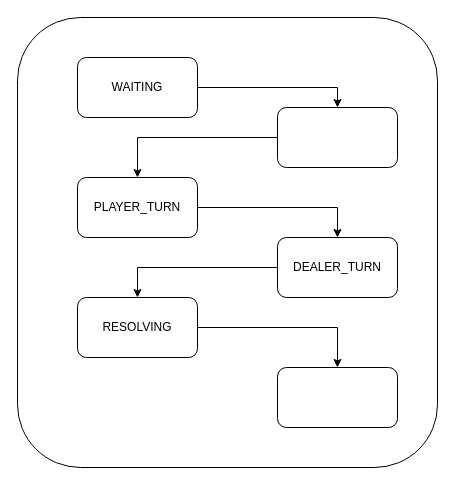
Some shapes in this 455 by 485 pixel diagram are drawn without their labels. The shapes that lost their labels are listed below. From the top down, each one's centre as x and y in pixels, then its label:
At [337,137]: "DEALING".
At [337,397]: "CLOSED".
